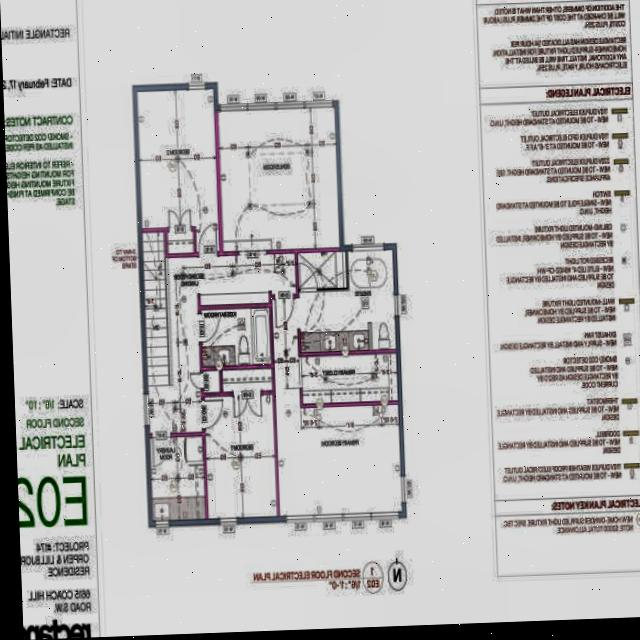room: (137, 89, 218, 229), (204, 395, 277, 519), (150, 436, 206, 521), (201, 308, 272, 367), (298, 252, 347, 289), (203, 370, 220, 393)
